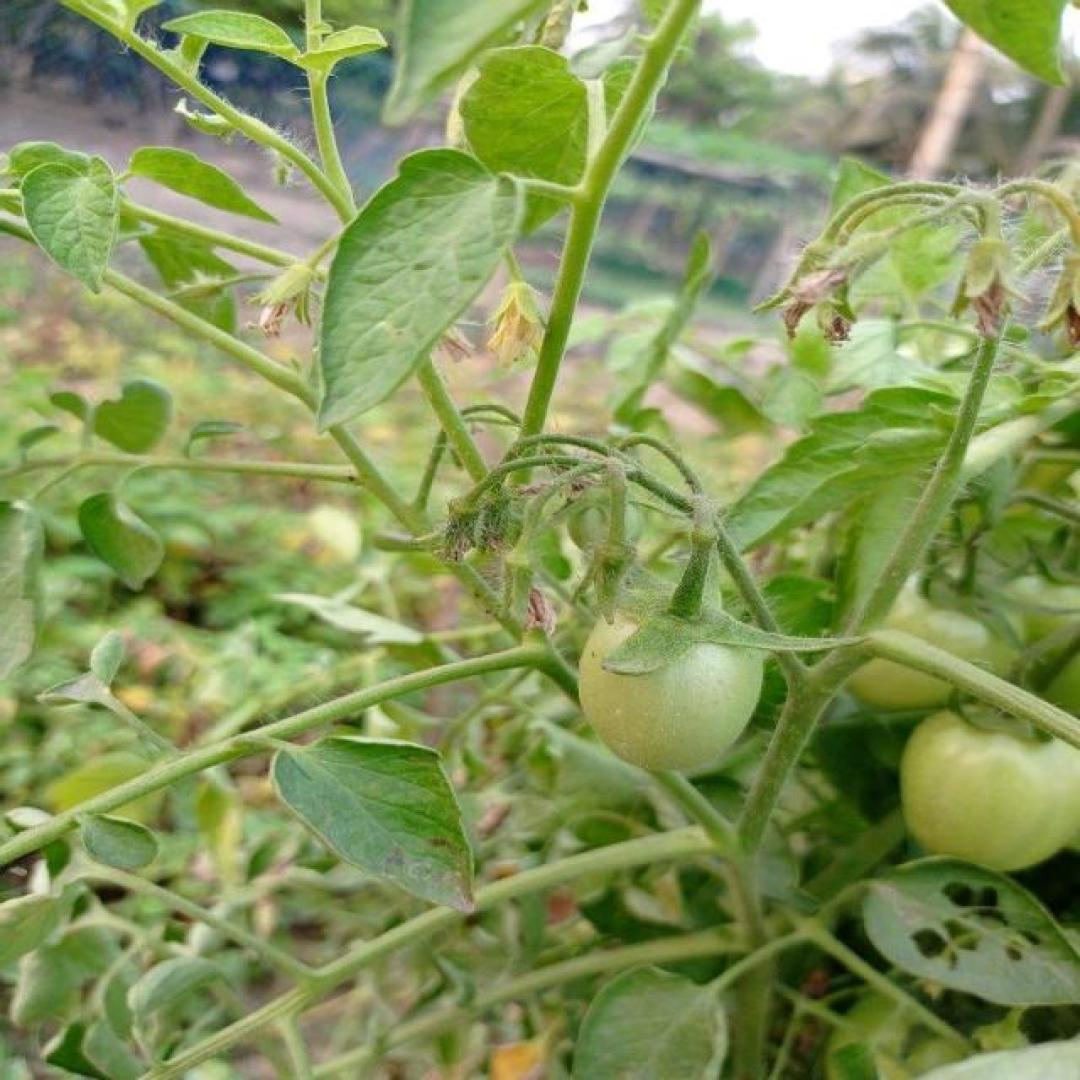mentah: (574, 589, 766, 771), (896, 700, 1080, 874)
